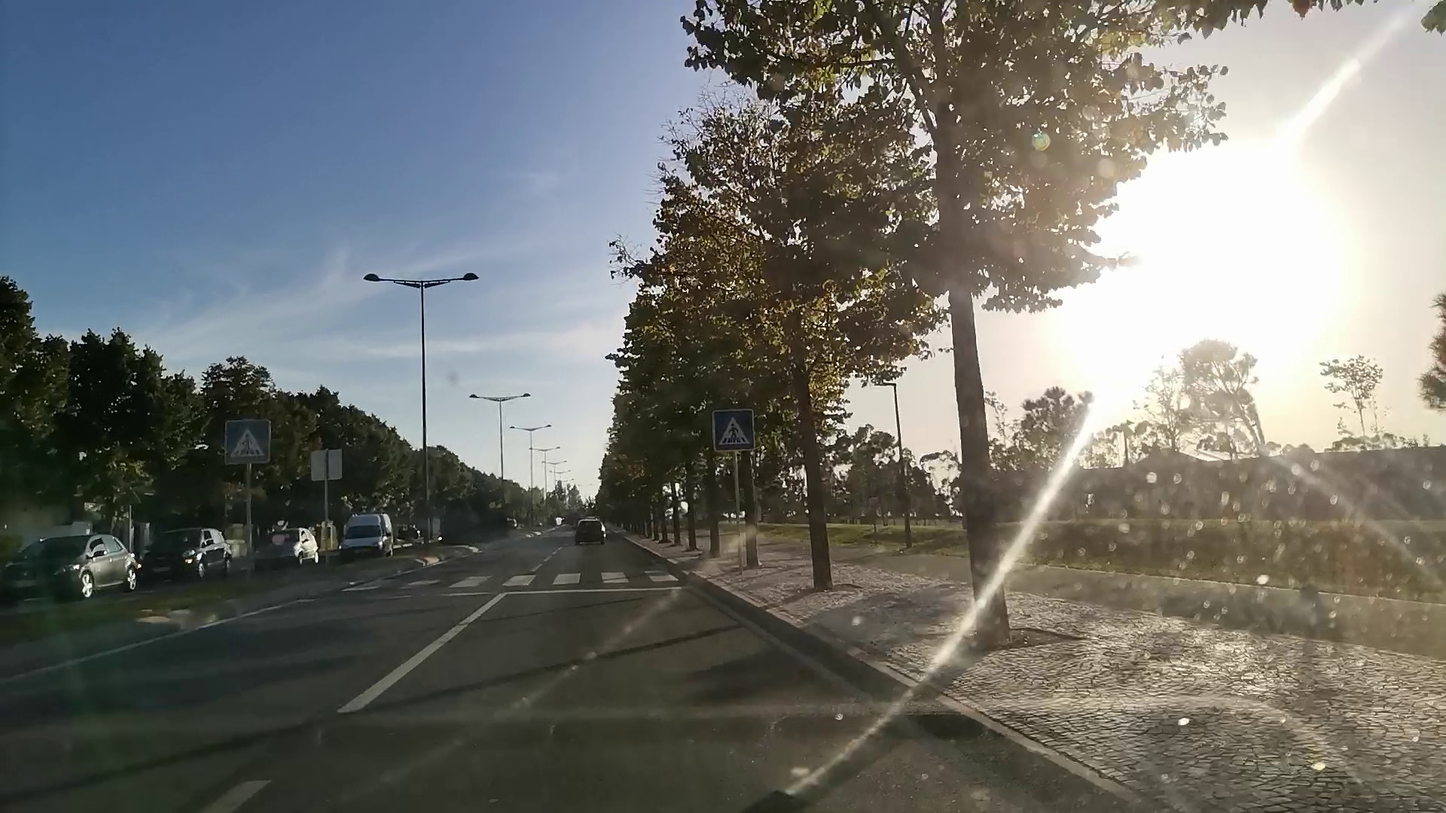Stairs: (325, 565, 683, 592)
